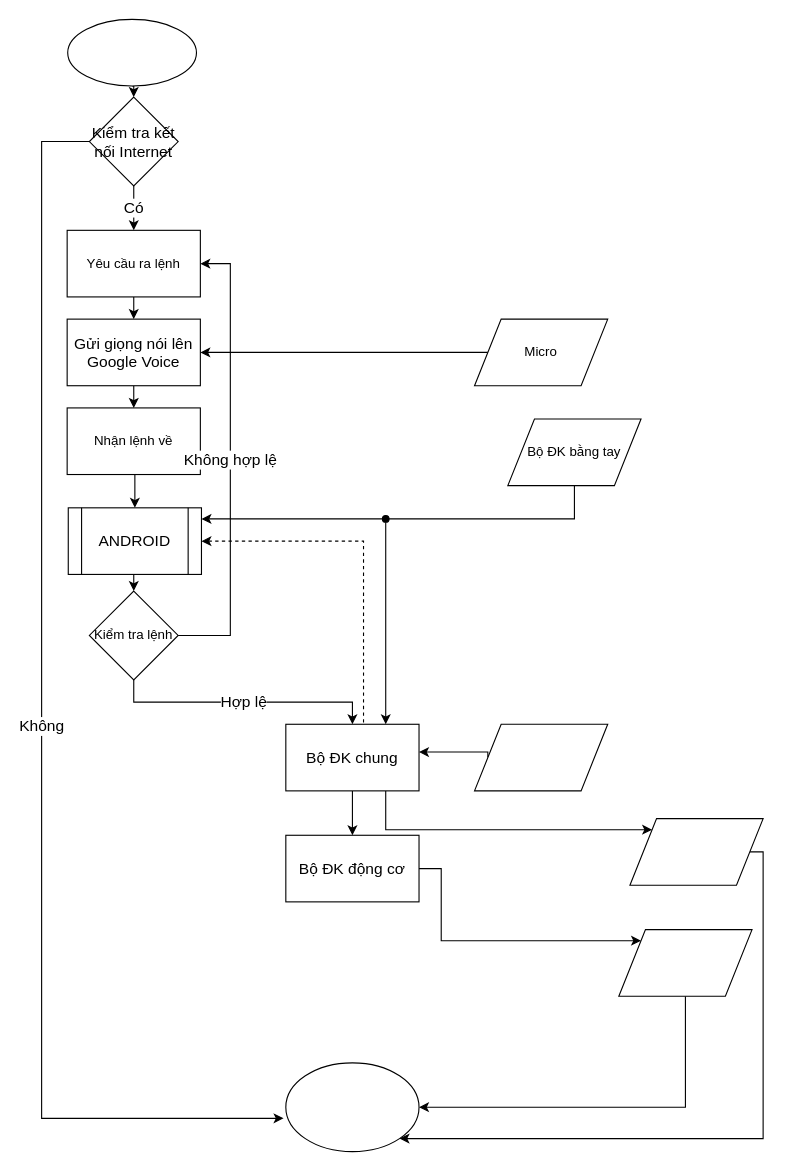
Image size: 791x1171. Some labels were removed from this diagram. The box of each missing label's shape, as (x1, y1, x2, y2) in pixels:
Các cảm biến: (473, 723, 608, 791)
Các thực thi khác: (629, 818, 763, 885)
Gọi ứng dụng: (67, 18, 196, 86)
Kết thúc: (285, 1062, 419, 1152)
Động cơ: (618, 929, 752, 996)
